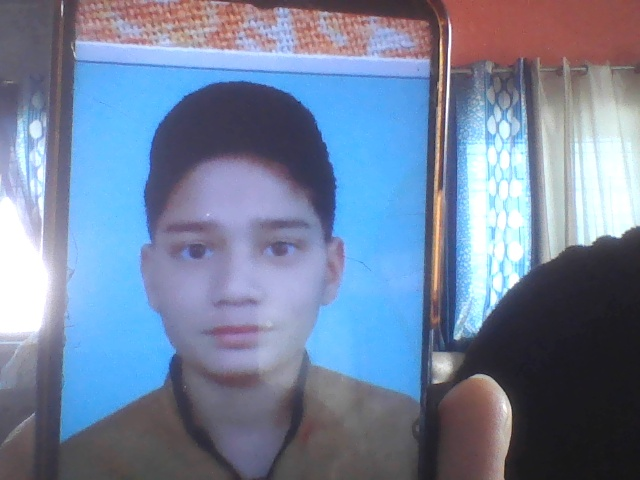fake: (123, 80, 357, 411)
